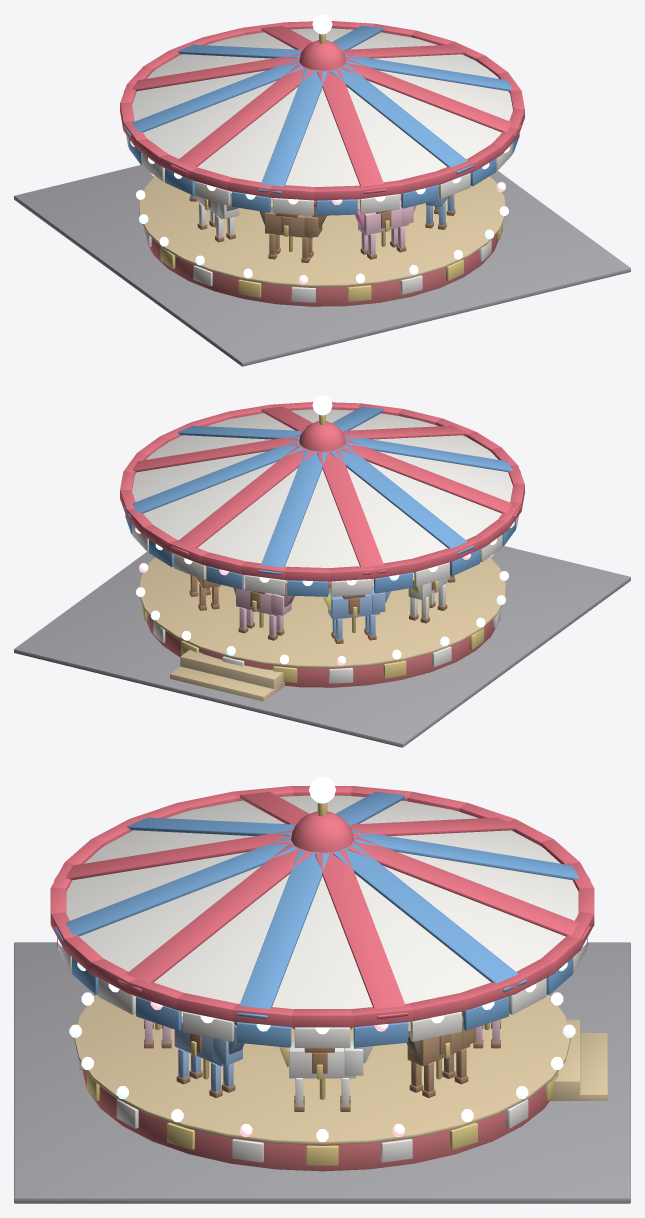
File: th13_karussell.glb
The picture shows the model from 3 angles, top to bottom: view 1: azimuth 30°, elevation 25°; view 2: azimuth 150°, elevation 25°; view 3: azimuth 270°, elevation 25°; orthographic projection. The views are drawn at different scales.
Visible parts, largest first — view 1: Cube, Cone, Cylinder.001, Cylinder, Cube.011, Cube.010, Cube.012, Cube.009, Cube.008, Cube.013, Cube.007, Cube.014 (+19 smaller); view 2: Cube, Cone, Cylinder.001, Cylinder, Cube.006, Cube.007, Cube.005, Cube.008, Cube.009, Cube.004, Cube.010, Cube.003 (+21 smaller); view 3: Cube, Cone, Cylinder.001, Cylinder, Cube.003, Cube.014, Cube.004, Cube.013, Cube.005, Cube.012, Cube.006, Cube.011 (+35 smaller).
Boxes of the visible parts, bbox=[...] form: Cube: bbox=[14, 165, 630, 366]; Cone: bbox=[132, 28, 512, 186]; Cylinder.001: bbox=[139, 176, 505, 287]; Cylinder: bbox=[149, 233, 498, 306]; Cube.011: bbox=[317, 69, 386, 193]; Cube.010: bbox=[258, 69, 327, 193]; Cube.012: bbox=[330, 64, 473, 173]; Cube.009: bbox=[171, 64, 314, 173]; Cube.008: bbox=[124, 58, 303, 137]; Cube.013: bbox=[341, 58, 520, 137]; Cube.007: bbox=[124, 54, 300, 91]; Cube.014: bbox=[344, 54, 512, 91]; Cube: bbox=[14, 546, 630, 747]; Cone: bbox=[132, 409, 512, 567]; Cylinder.001: bbox=[139, 557, 505, 668]; Cylinder: bbox=[146, 614, 495, 687]; Cube.006: bbox=[258, 450, 327, 574]; Cube.007: bbox=[317, 450, 386, 574]; Cube.005: bbox=[171, 445, 314, 554]; Cube.008: bbox=[330, 445, 473, 554]; Cube.009: bbox=[341, 439, 520, 518]; Cube.004: bbox=[124, 439, 303, 518]; Cube.010: bbox=[344, 435, 520, 472]; Cube.003: bbox=[132, 435, 300, 472]; Cube: bbox=[14, 942, 630, 1203]; Cone: bbox=[66, 795, 578, 1008]; Cylinder.001: bbox=[74, 994, 570, 1145]; Cylinder: bbox=[82, 1068, 550, 1171]; Cube.003: bbox=[315, 850, 408, 1019]; Cube.014: bbox=[236, 850, 329, 1019]; Cube.004: bbox=[333, 844, 526, 992]; Cube.013: bbox=[118, 844, 311, 992]; Cube.005: bbox=[347, 836, 590, 941]; Cube.012: bbox=[54, 836, 297, 941]; Cube.006: bbox=[351, 830, 590, 880]; Cube.011: bbox=[54, 830, 293, 880].
Bounding box in the file's own units: 11.6 × 6.29 × 11.8.
